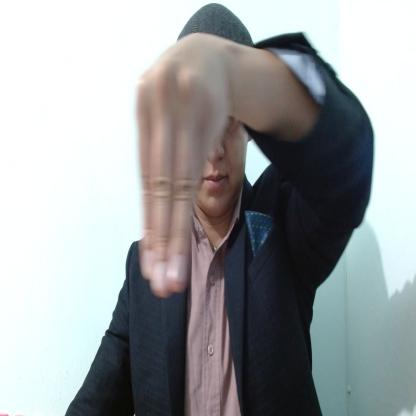M: (137, 34, 225, 294)
